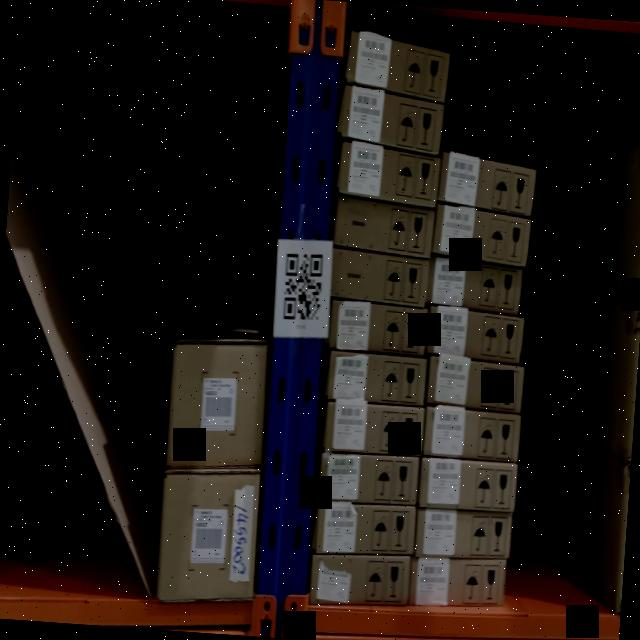box: (156, 472, 260, 600), (165, 338, 268, 465), (344, 29, 451, 104), (337, 83, 444, 157), (335, 139, 442, 207), (417, 456, 518, 514), (328, 300, 428, 357), (310, 504, 416, 556), (320, 401, 426, 453), (322, 353, 427, 405), (423, 407, 522, 461), (426, 260, 523, 312), (427, 309, 525, 360), (426, 359, 526, 408), (414, 509, 514, 558), (332, 202, 434, 250), (316, 454, 420, 501), (330, 256, 430, 304), (408, 556, 504, 604), (310, 556, 411, 599), (432, 214, 530, 258), (438, 165, 536, 206)
